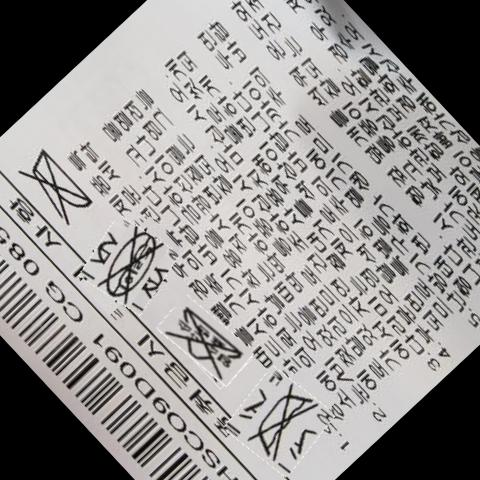DN_bleach: (169, 307, 248, 372)
DN_dry_clean: (95, 233, 166, 300)
DN_iron: (24, 155, 97, 211)
DN_wash: (251, 384, 326, 462)
